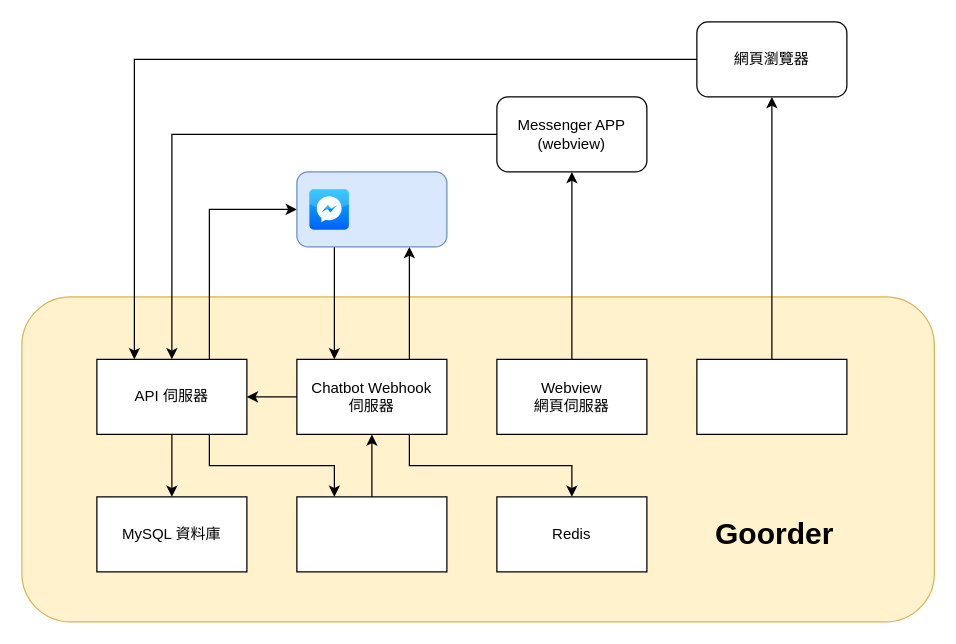
This 956x644 diagram has some shape labels left out. Here are the shapes that lost their labels. From the top down, the box of each, then its label:
(296, 171, 447, 247): Messenger 伺服器
(696, 358, 847, 434): Dashboard 網頁伺服器
(296, 496, 447, 572): RabbitMQ
